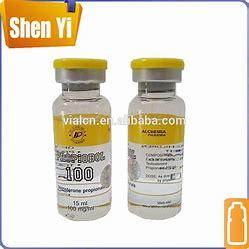Syringe: (119, 48, 187, 223), (46, 53, 112, 225)
